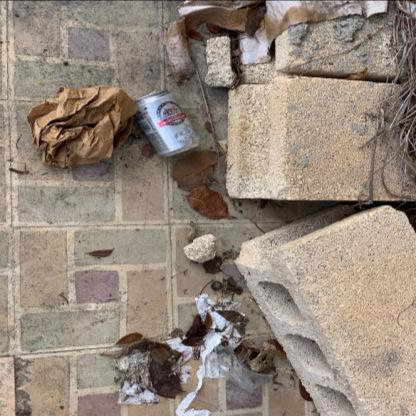Can: (134, 90, 201, 158)
Cup: (207, 343, 274, 393)
Other litter: (26, 85, 139, 168)
Paper: (174, 294, 245, 416), (114, 335, 192, 405)
Pop tab: (146, 89, 158, 95)
